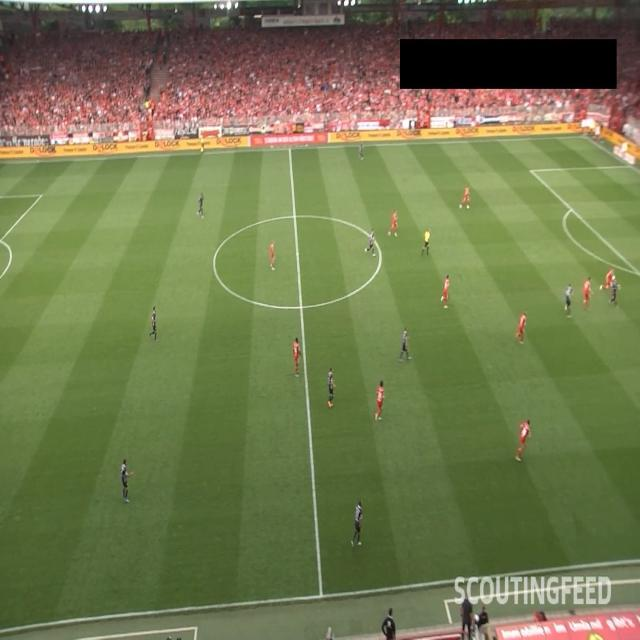ball: (611, 275, 616, 281)
